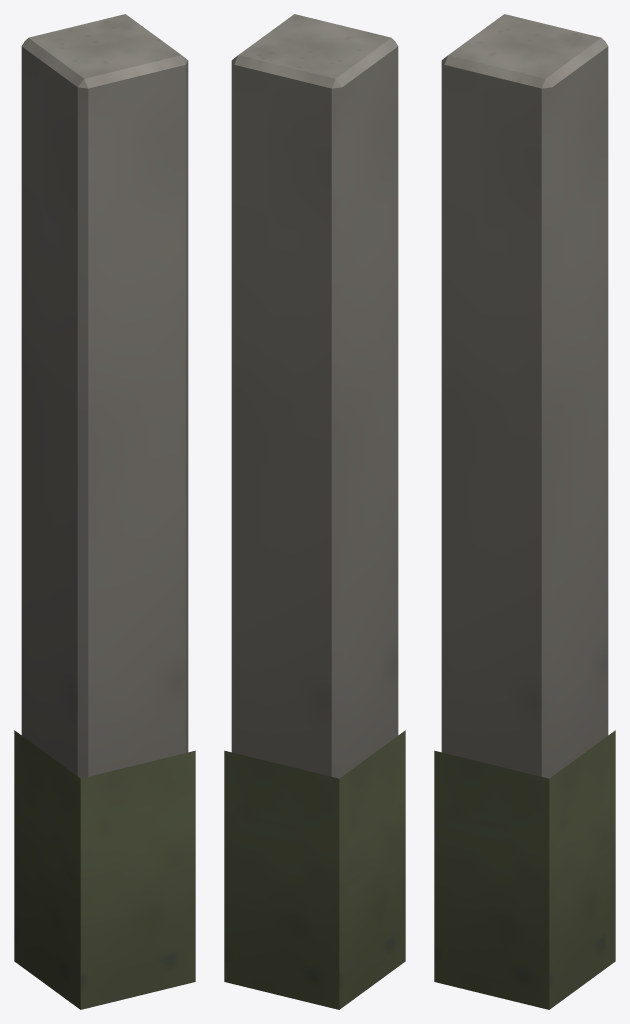
The model's file is column_bunker.glb.
3 renders of one model, left to right at view 1: azimuth 30°, elevation 25°; view 2: azimuth 150°, elevation 25°; view 3: azimuth 330°, elevation 25°, orthographic.
Visible parts, largest first — view 1: column_bunker; view 2: column_bunker; view 3: column_bunker.
Boxes of the visible parts, x1,y1,x2,y2 form: column_bunker: (14,14,195,1009); column_bunker: (224,14,405,1009); column_bunker: (434,14,615,1009).
Size of the model in its own units: 0.52 by 4 by 0.52.
1 material, 1 textured.
